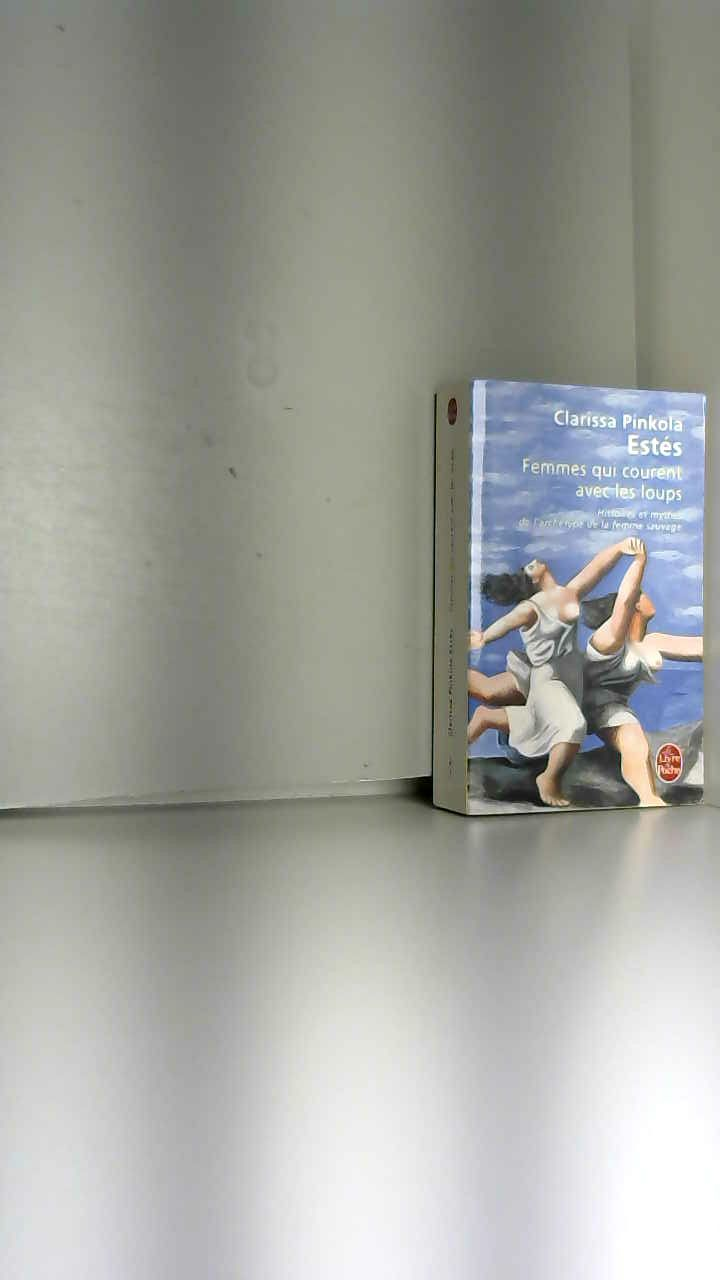book: (440, 360, 716, 854)
